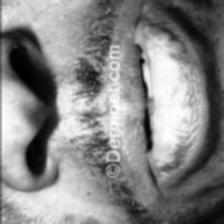Unclassified: (157, 29, 189, 197), (64, 30, 93, 180)
